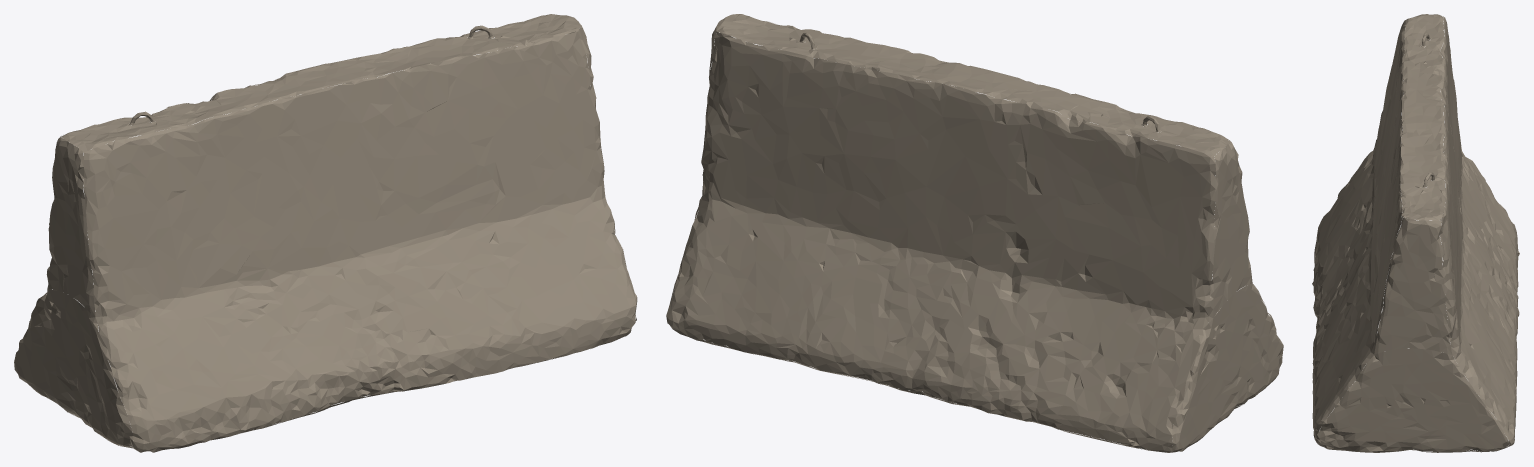
The model's file is barrier.glb.
3 renders of one model, left to right at view 1: azimuth 30°, elevation 25°; view 2: azimuth 150°, elevation 25°; view 3: azimuth 270°, elevation 25°, orthographic. The views are drawn at different scales.
Visible parts, largest first — view 1: barrier; view 2: barrier; view 3: barrier.
Part boxes in pixels (x1,y1,x2,y2): barrier: [14, 14, 637, 452]; barrier: [666, 14, 1283, 452]; barrier: [1312, 14, 1519, 452].
Size of the model in its own units: 1.51 by 0.8107 by 0.6226.
